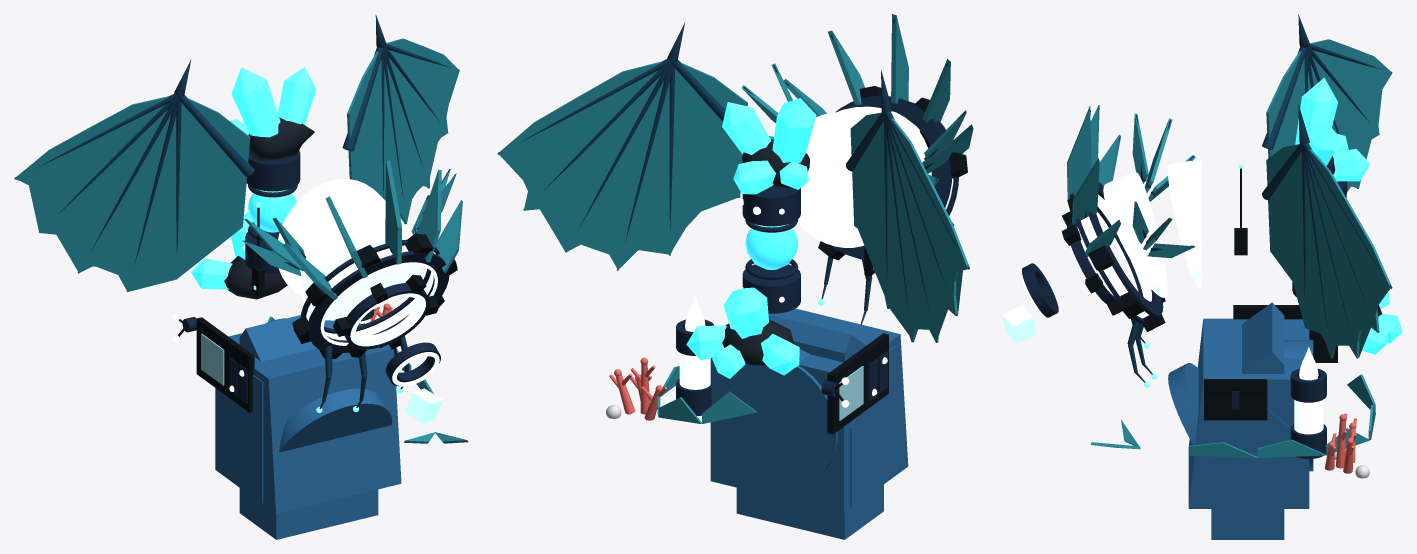
File: SapphireTideMine_Roblox.fbx
3 views of the same model, side by side, from view 1: azimuth 30°, elevation 25°; view 2: azimuth 150°, elevation 25°; view 3: azimuth 270°, elevation 25° (orthographic). The views are drawn at different scales.
Parts seen in each view (by area): view 1: FinMembrane, Stone, Neon, DeepSteel, FinBone, Black, Crystal, Rock, WaterOrb, Ore, Screen, FinSpine; view 2: FinMembrane, Stone, Crystal, DeepSteel, Neon, FinBone, Black, Rock, WaterOrb, Coral, Screen, FinSpine; view 3: FinMembrane, Stone, Neon, Black, DeepSteel, FinBone, Crystal, Coral, Ore, FinSpine.
Part boxes in pixels (x1,y1,x2,y2): FinMembrane: (15, 38, 468, 443); Stone: (215, 315, 401, 539); Neon: (243, 179, 439, 386); DeepSteel: (182, 150, 449, 403); FinBone: (14, 43, 449, 408); Black: (177, 207, 457, 412); Crystal: (191, 67, 316, 289); Rock: (224, 117, 314, 299); WaterOrb: (247, 189, 296, 232); Ore: (404, 388, 442, 423); Screen: (201, 334, 224, 385); FinSpine: (174, 14, 455, 286); FinMembrane: (498, 14, 973, 423); Stone: (710, 308, 908, 539); Crystal: (686, 98, 816, 378); DeepSteel: (676, 95, 958, 415); Neon: (679, 106, 953, 389); FinBone: (497, 58, 969, 342); Black: (818, 86, 967, 434); Rock: (722, 139, 809, 365); WaterOrb: (745, 224, 798, 269); Coral: (609, 357, 666, 420); Screen: (839, 366, 863, 420); FinSpine: (667, 19, 971, 180); FinMembrane: (1067, 39, 1392, 457); Stone: (1168, 302, 1313, 539); Neon: (1021, 160, 1351, 434); Black: (1061, 168, 1337, 420); DeepSteel: (1022, 181, 1347, 459); FinBone: (1127, 43, 1392, 382); Crystal: (1295, 77, 1402, 354); Coral: (1325, 413, 1356, 473); Ore: (1002, 305, 1036, 343); FinSpine: (1084, 14, 1309, 251).
Bounding box in the file's own units: 2094 × 2063 × 1641.
